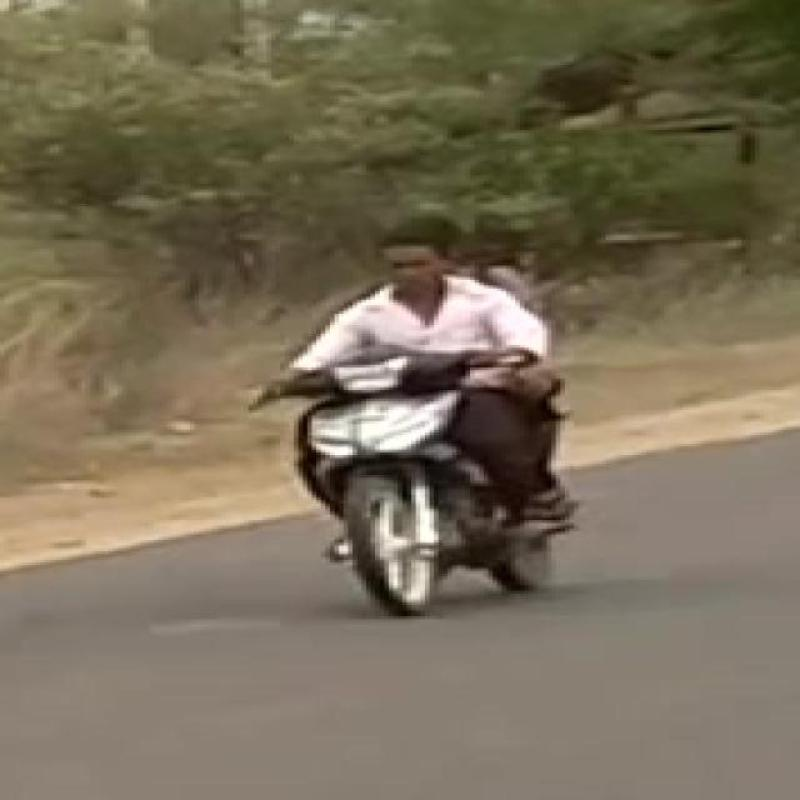nohelmet: (350, 210, 469, 301)
